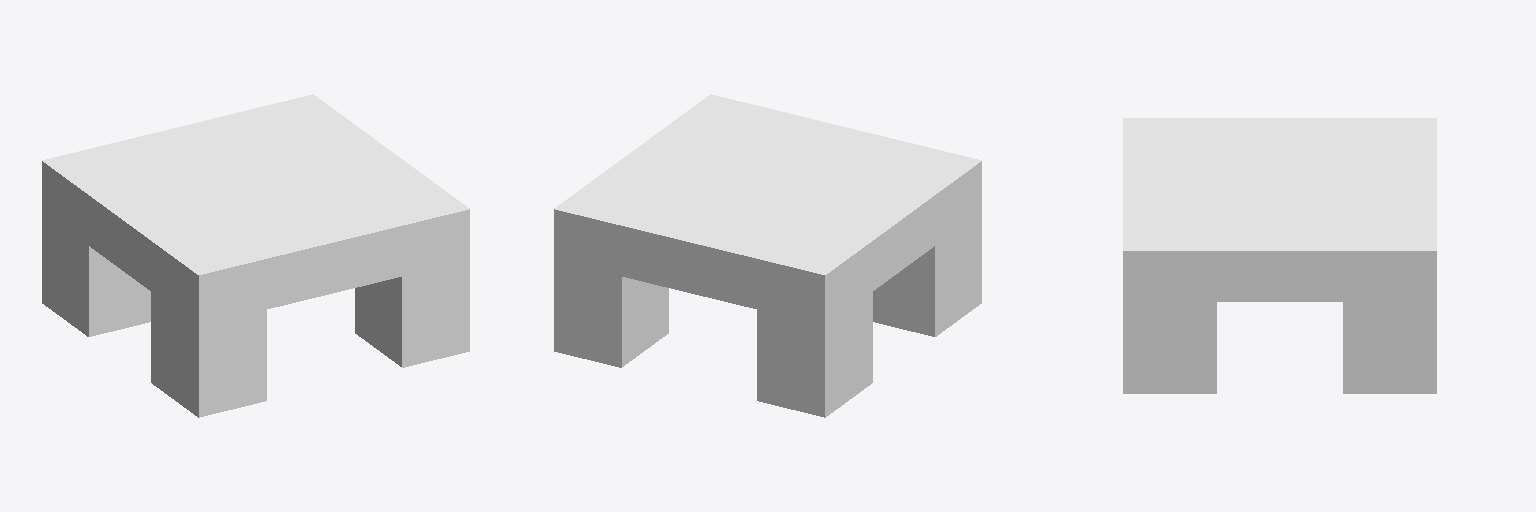
The model's file is x_fangzhuo.obj.
The picture shows the model from 3 angles: view 1: azimuth 30°, elevation 25°; view 2: azimuth 150°, elevation 25°; view 3: azimuth 270°, elevation 25°; orthographic projection.
Parts seen in each view (by area): view 1: q_fangdeng; view 2: q_fangdeng; view 3: q_fangdeng.
Part boxes in pixels (bbox=[...]): q_fangdeng: bbox=[42, 94, 469, 417]; q_fangdeng: bbox=[554, 94, 981, 417]; q_fangdeng: bbox=[1123, 118, 1436, 393].
Size of the model in its own units: 10 by 5 by 10.